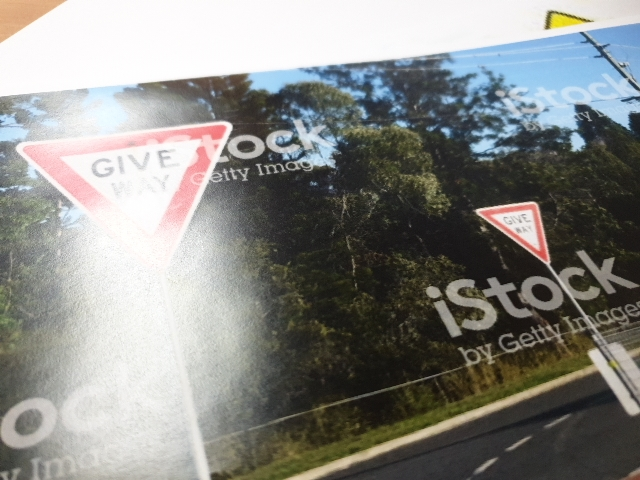giveway: (18, 139, 267, 265), (474, 202, 568, 264)
